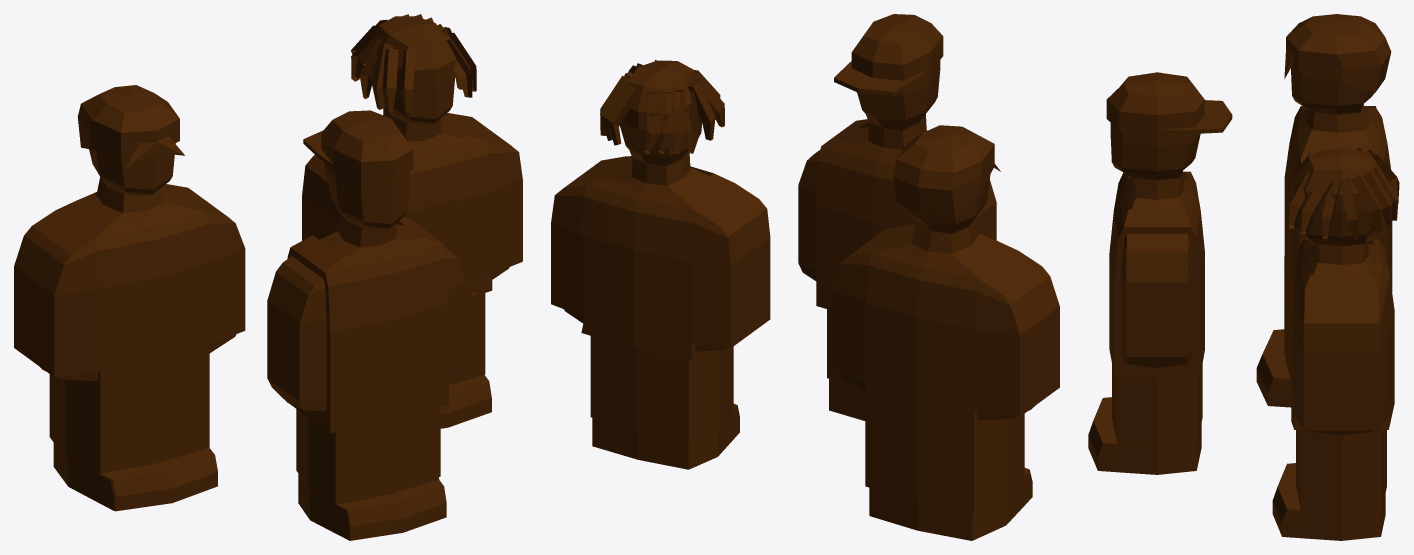
File: fam.fbx
The picture shows the model from 3 angles, left to right: view 1: azimuth 30°, elevation 25°; view 2: azimuth 150°, elevation 25°; view 3: azimuth 270°, elevation 25°; orthographic projection. The views are drawn at different scales.
Visible parts, largest first — view 1: torso.002, torso, skin, shorts.001, torso.001, shorts, header, bandan.001, skin.001, boots, skin.003, boots.001 (+4 smaller); view 2: torso.002, torso.001, shorts.001, shorts.002, torso, header, skin, bandan.001, skin.003, skin.001, boots.002, skin.002 (+3 smaller); view 3: torso.001, skin, torso, shorts.002, header, bandan.001, skin.003, shorts, torso.002, boots, skin.001, boots.002 (+4 smaller).
Boxes of the visible parts, bbox=[...] form: torso.002: bbox=[14, 184, 245, 377]; torso: bbox=[287, 217, 448, 433]; skin: bbox=[267, 163, 466, 411]; shorts.001: bbox=[49, 345, 209, 473]; torso.001: bbox=[302, 113, 522, 295]; shorts: bbox=[296, 407, 440, 501]; header: bbox=[351, 14, 476, 113]; bandan.001: bbox=[77, 85, 184, 169]; skin.001: bbox=[40, 143, 236, 510]; boots: bbox=[298, 474, 446, 540]; skin.003: bbox=[303, 110, 413, 182]; boots.001: bbox=[99, 448, 217, 511]; torso.002: bbox=[830, 224, 1059, 416]; torso.001: bbox=[551, 156, 770, 359]; shorts.001: bbox=[865, 385, 1024, 512]; shorts.002: bbox=[590, 336, 733, 440]; torso: bbox=[816, 119, 927, 309]; header: bbox=[600, 60, 724, 153]; skin: bbox=[798, 60, 996, 280]; bandan.001: bbox=[893, 125, 1000, 216]; skin.003: bbox=[834, 14, 943, 96]; skin.001: bbox=[839, 175, 1034, 540]; boots.002: bbox=[592, 404, 739, 469]; skin.002: bbox=[619, 103, 702, 185]; torso.001: bbox=[1291, 237, 1394, 430]; skin: bbox=[1110, 123, 1200, 367]; torso: bbox=[1109, 171, 1204, 376]; shorts.002: bbox=[1296, 430, 1386, 513]; header: bbox=[1288, 147, 1399, 239]; bandan.001: bbox=[1284, 14, 1391, 92]; skin.003: bbox=[1106, 72, 1232, 134]; shorts: bbox=[1112, 364, 1202, 444]; torso.002: bbox=[1284, 106, 1392, 285]; boots: bbox=[1088, 397, 1201, 474]; skin.001: bbox=[1269, 65, 1374, 407]; boots.002: bbox=[1272, 463, 1385, 540].
Size of the model in its own units: 297 by 232 by 178.
